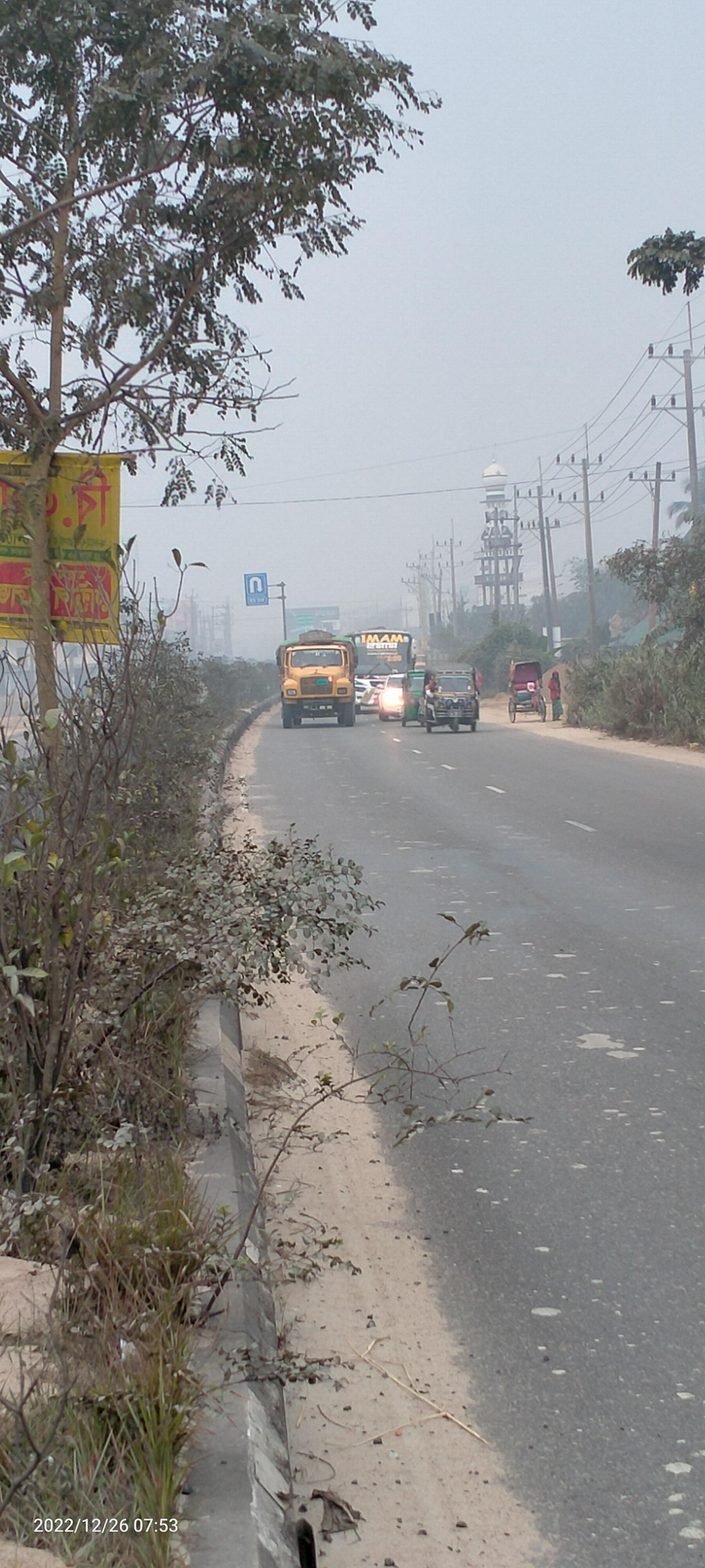Bus: (350, 626, 411, 708)
Car: (501, 654, 550, 723), (378, 669, 420, 723)
Truck: (276, 630, 360, 726)
